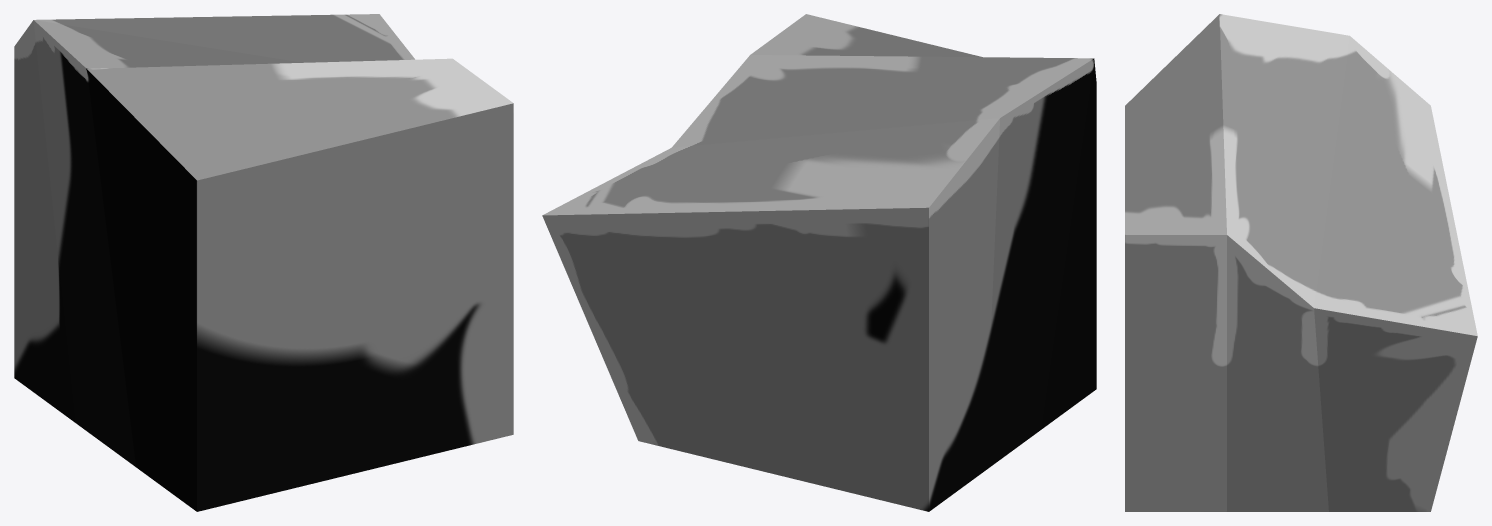
Rendered from roca.fbx.
3 renders of one model, left to right at view 1: azimuth 30°, elevation 25°; view 2: azimuth 150°, elevation 25°; view 3: azimuth 270°, elevation 25°, orthographic. The views are drawn at different scales.
Parts seen in each view (by area): view 1: Cube; view 2: Cube; view 3: Cube.
Part boxes in pixels (x1,y1,x2,y2): Cube: [14, 14, 513, 511]; Cube: [542, 14, 1096, 511]; Cube: [1125, 14, 1477, 511].
Size of the model in its own units: 282 by 250 by 231.
1 material, 1 textured.
